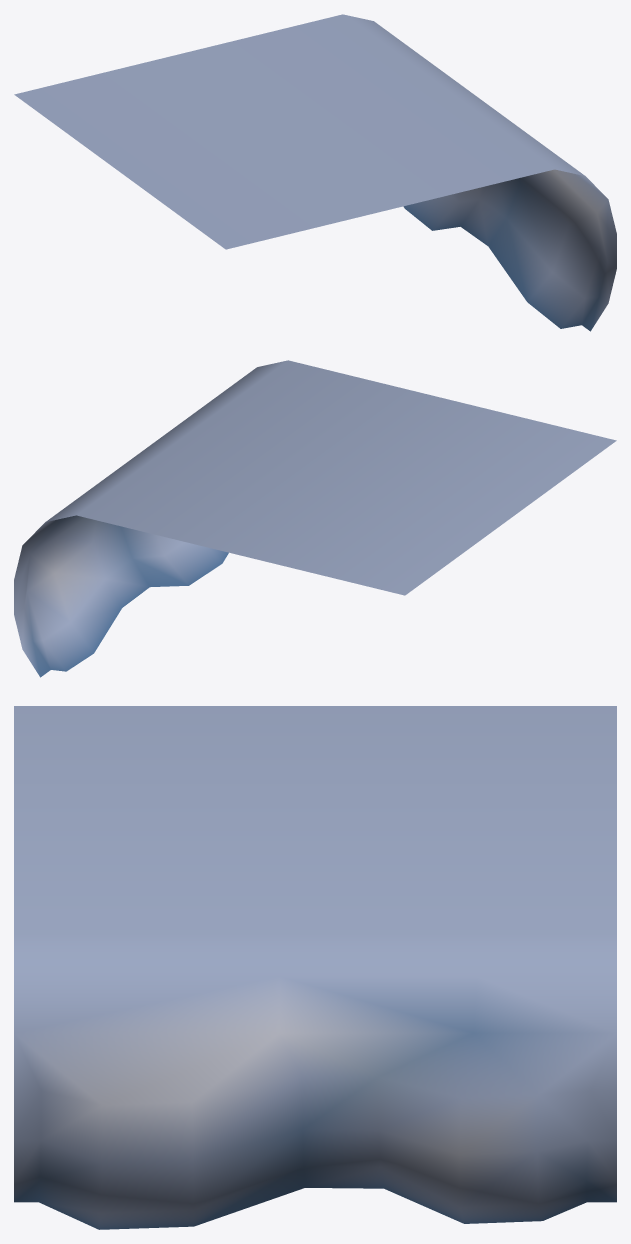
Rendered from Surface_SideUp00.fbx.
3 renders of one model, top to bottom at view 1: azimuth 30°, elevation 25°; view 2: azimuth 150°, elevation 25°; view 3: azimuth 270°, elevation 25°, orthographic. The views are drawn at different scales.
Parts seen in each view (by area): view 1: Surface_SideUp00; view 2: Surface_SideUp00; view 3: Surface_SideUp00.
Boxes of the visible parts, <box> form: Surface_SideUp00: <box>14,14,616,331</box>; Surface_SideUp00: <box>14,360,616,677</box>; Surface_SideUp00: <box>14,706,616,1229</box>.
Size of the model in its own units: 2212 by 990 by 2000.
